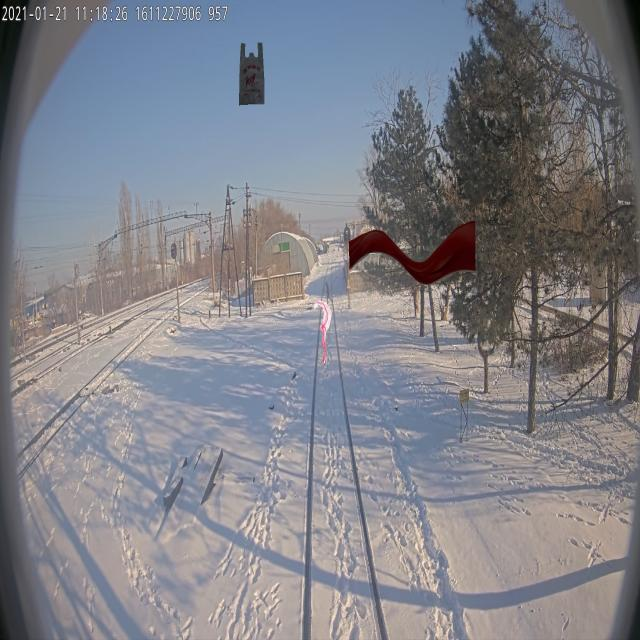floating object: (349, 220, 475, 284), (313, 300, 332, 364)
plastic bag: (239, 41, 265, 106)
